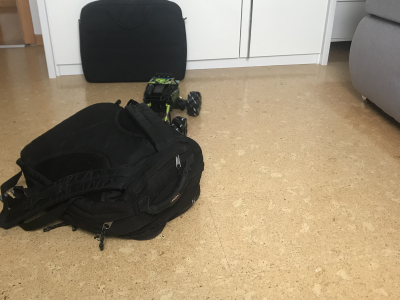remote control car: (131, 73, 203, 141)
